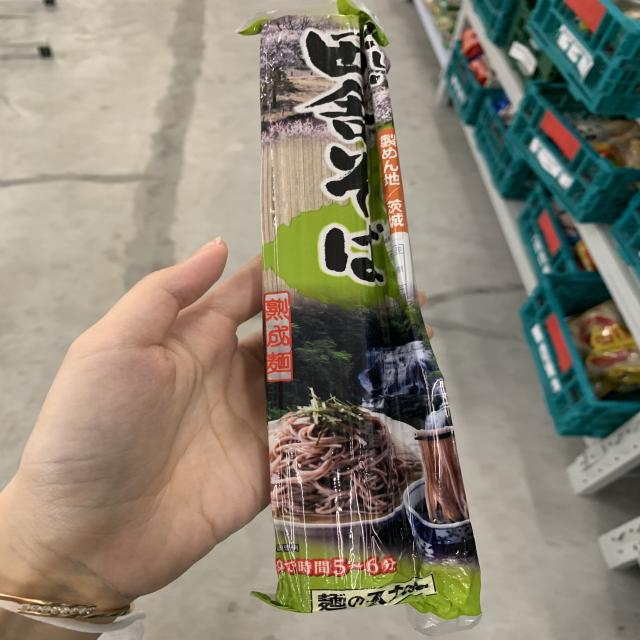object_name: (261, 21, 456, 611)
